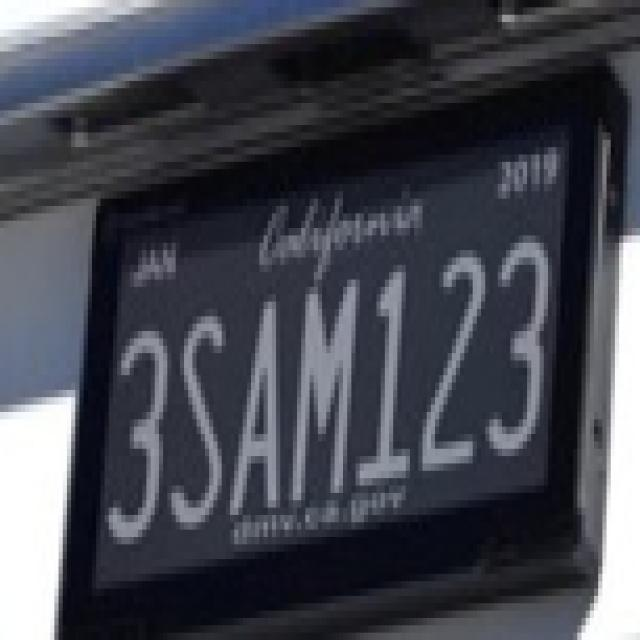1: (356, 242, 414, 507)
3: (100, 302, 172, 568), (489, 225, 554, 474)
A: (228, 279, 292, 531)
M: (290, 262, 360, 508)
S: (168, 294, 232, 536)
